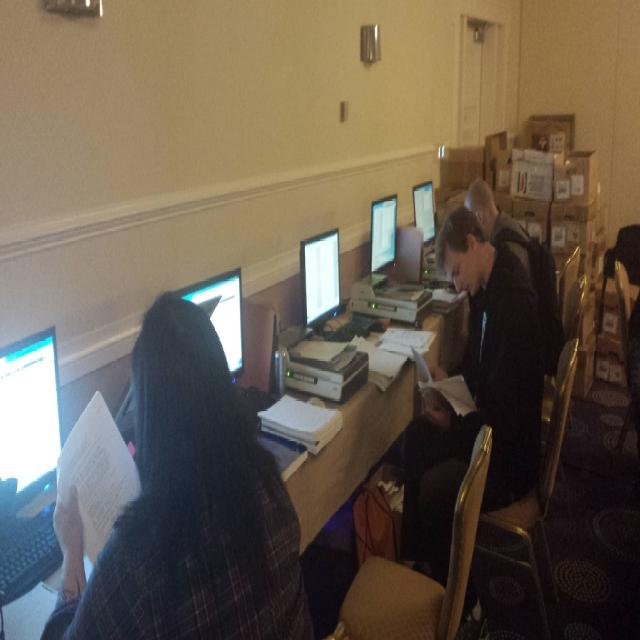chair: (336, 426, 492, 636), (470, 338, 581, 631)
desk: (0, 250, 472, 640)
keyboard: (0, 506, 62, 606)
person: (46, 291, 314, 632), (398, 207, 545, 562), (463, 176, 533, 252)
tv: (0, 323, 64, 519), (172, 266, 244, 384), (300, 228, 340, 331), (370, 193, 398, 277)
